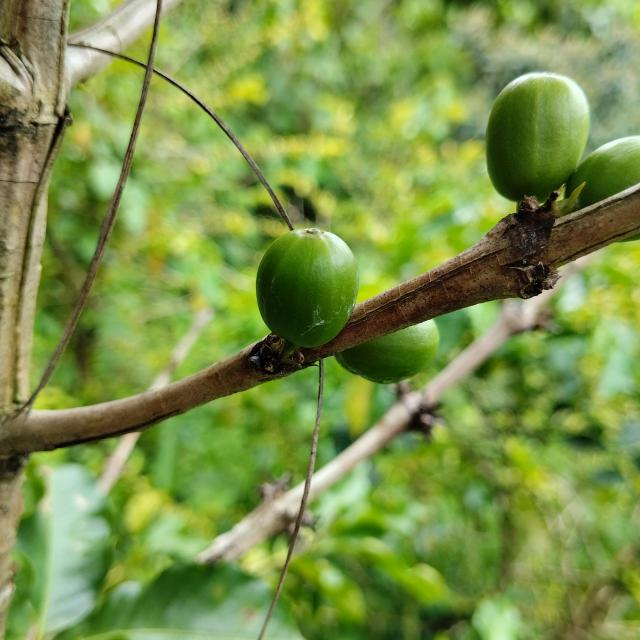green: (487, 71, 591, 201), (256, 228, 359, 348), (335, 320, 440, 384), (567, 135, 640, 207)
